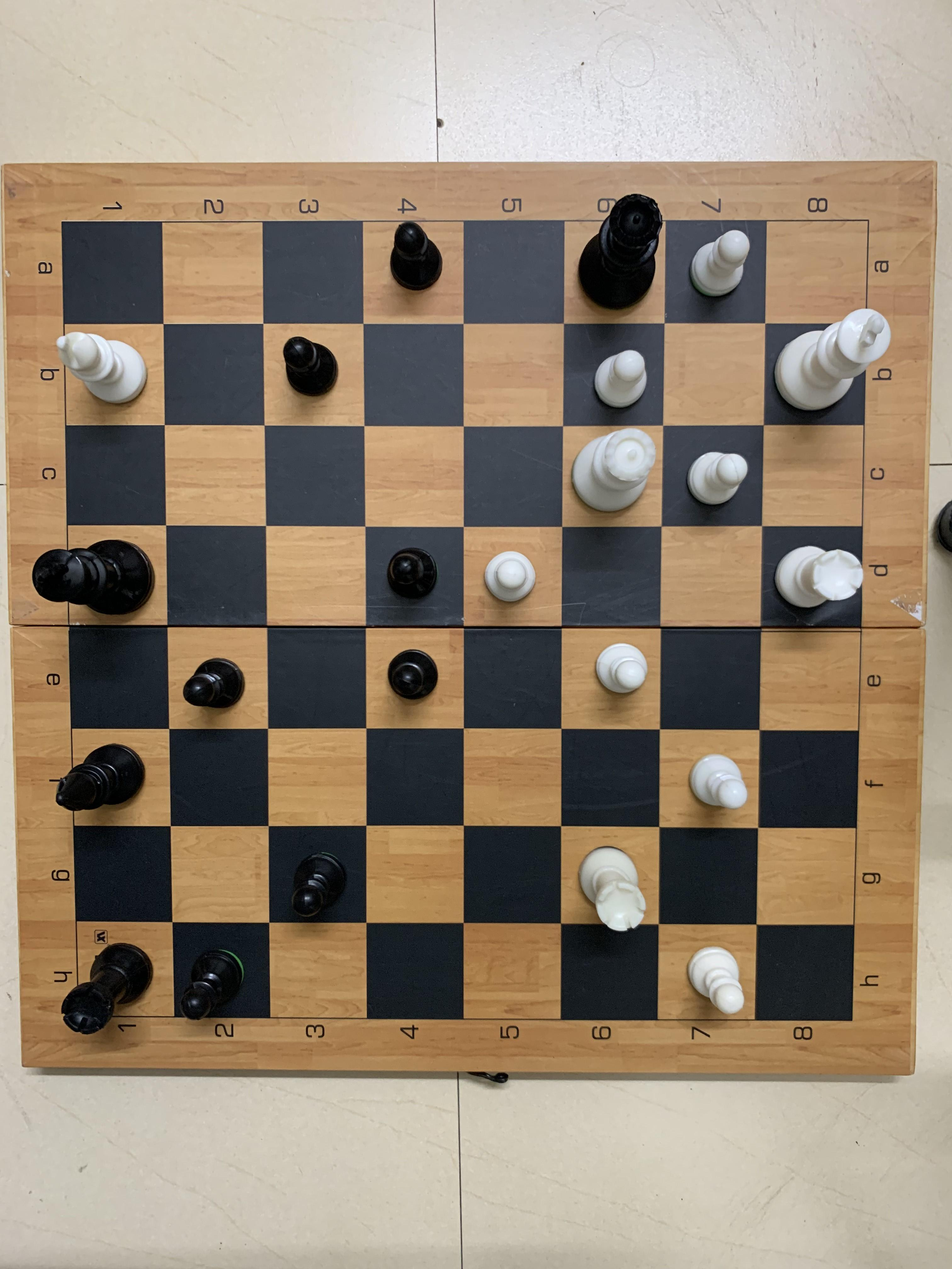black_bishop: (47, 729, 171, 833)
black_king: (30, 523, 169, 629)
black_pawn: (168, 916, 278, 1033), (261, 318, 362, 436), (264, 822, 366, 936), (365, 635, 463, 730), (179, 625, 265, 732), (368, 531, 463, 616), (365, 222, 451, 310)
black_queen: (565, 189, 673, 317)
black_rook: (57, 915, 169, 1033)
white_bishop: (58, 328, 161, 421)
white_king: (785, 307, 896, 425)
white_pawn: (557, 631, 660, 731), (664, 732, 761, 827), (570, 324, 655, 430), (678, 217, 769, 312), (671, 424, 757, 519), (475, 531, 556, 621), (664, 937, 751, 1018)
white_queen: (568, 424, 666, 537)
white_rook: (567, 825, 660, 938), (762, 531, 866, 632)
